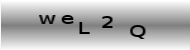2: (100, 15, 114, 29)
L: (78, 21, 91, 35)
Q: (129, 24, 146, 40)
e: (60, 14, 76, 25)
w: (38, 14, 57, 25)
